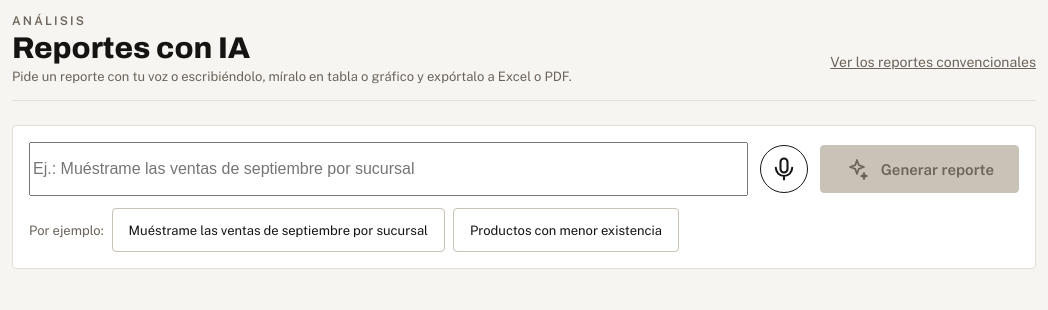
Test: ReportesIaComponent › dictado › un error del micrófono se explica en la pantalla
Click the button named "Dictar tu pedido": click(784, 169) [760,145,808,193]
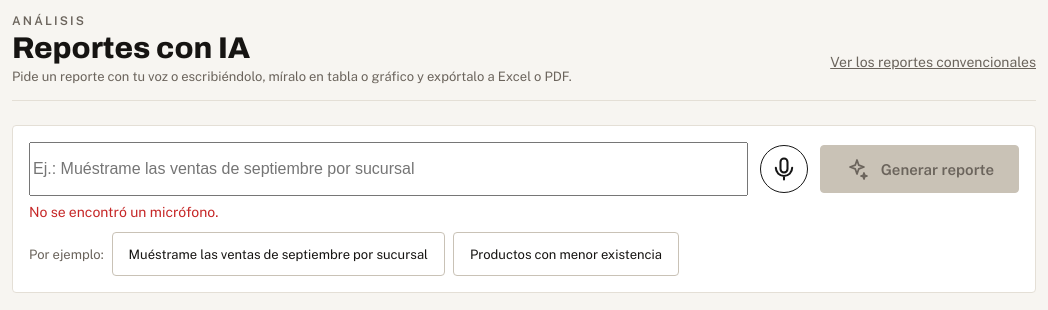
Expected: the message "No se encontró un micrófono." is shown, [29,204,218,220]
